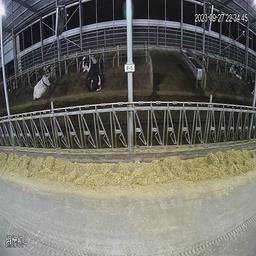cow: (85, 61, 106, 93), (32, 75, 51, 101), (81, 52, 97, 72), (229, 61, 244, 82)
